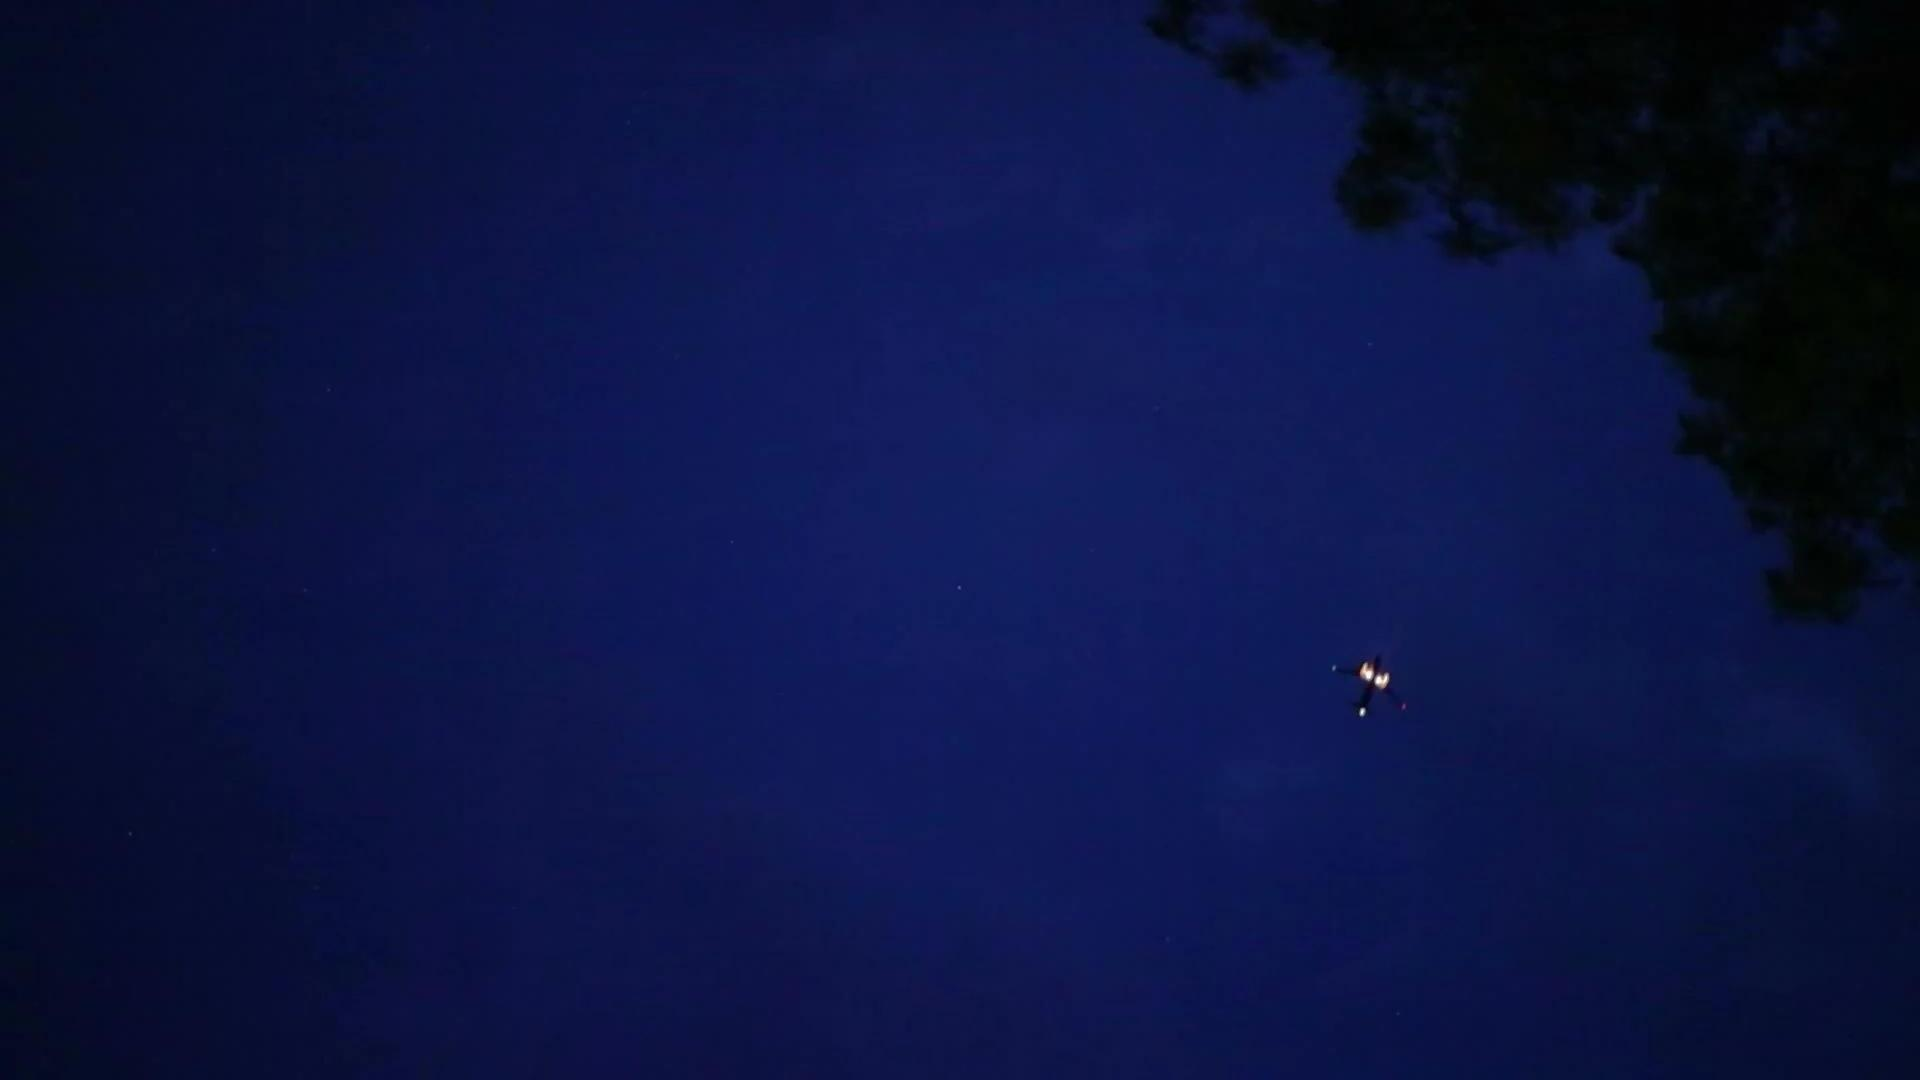Plane: (1311, 640, 1431, 733)
